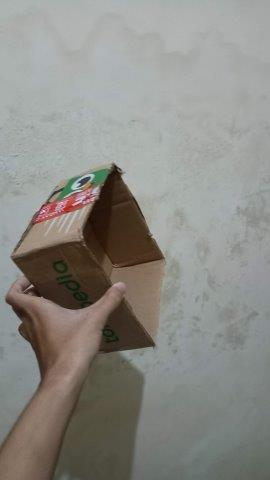kardus: (14, 164, 164, 349)
